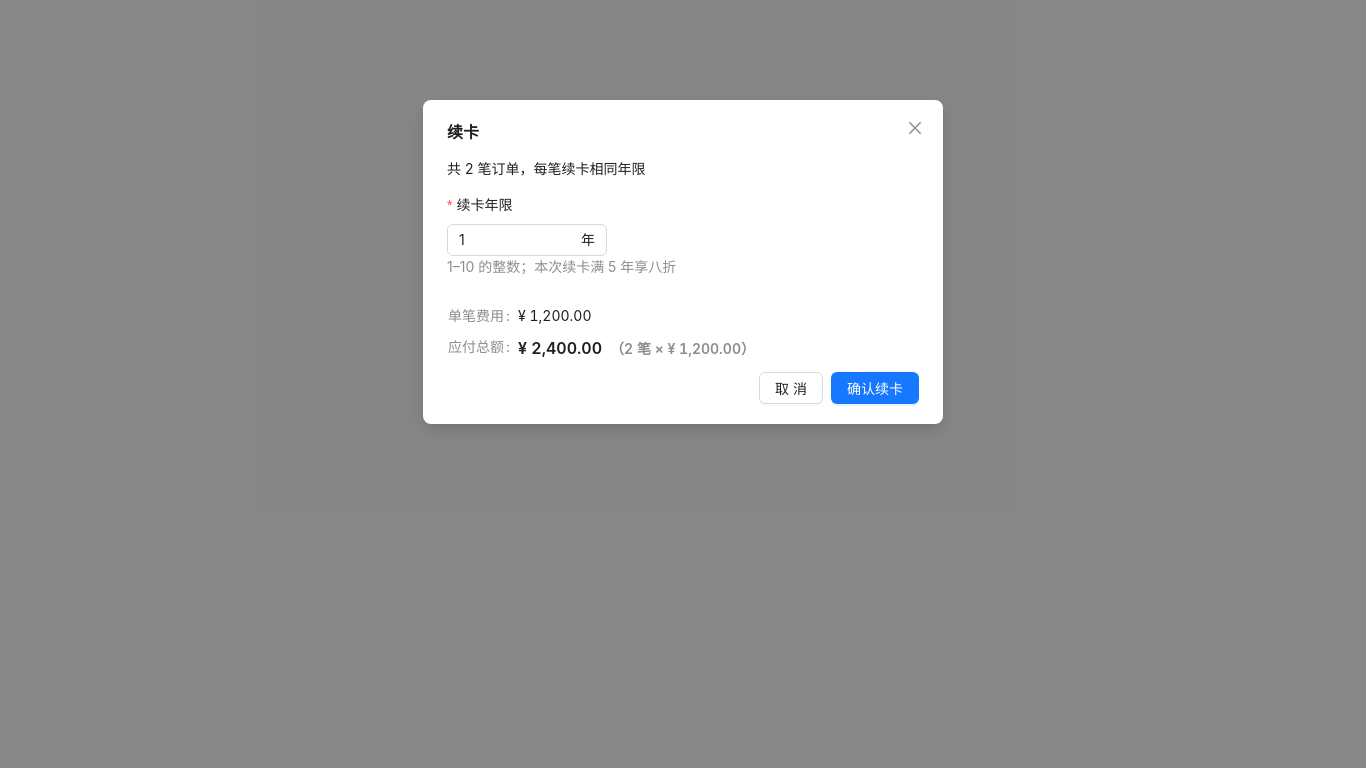
提交 › 店长已先为李秀英续卡：列出订单号与原因，弹窗与年限保留，王建国也不续
Replace the text in the number field labelled "续卡年限" with "3" at (518, 240), box [459,225,577,255]
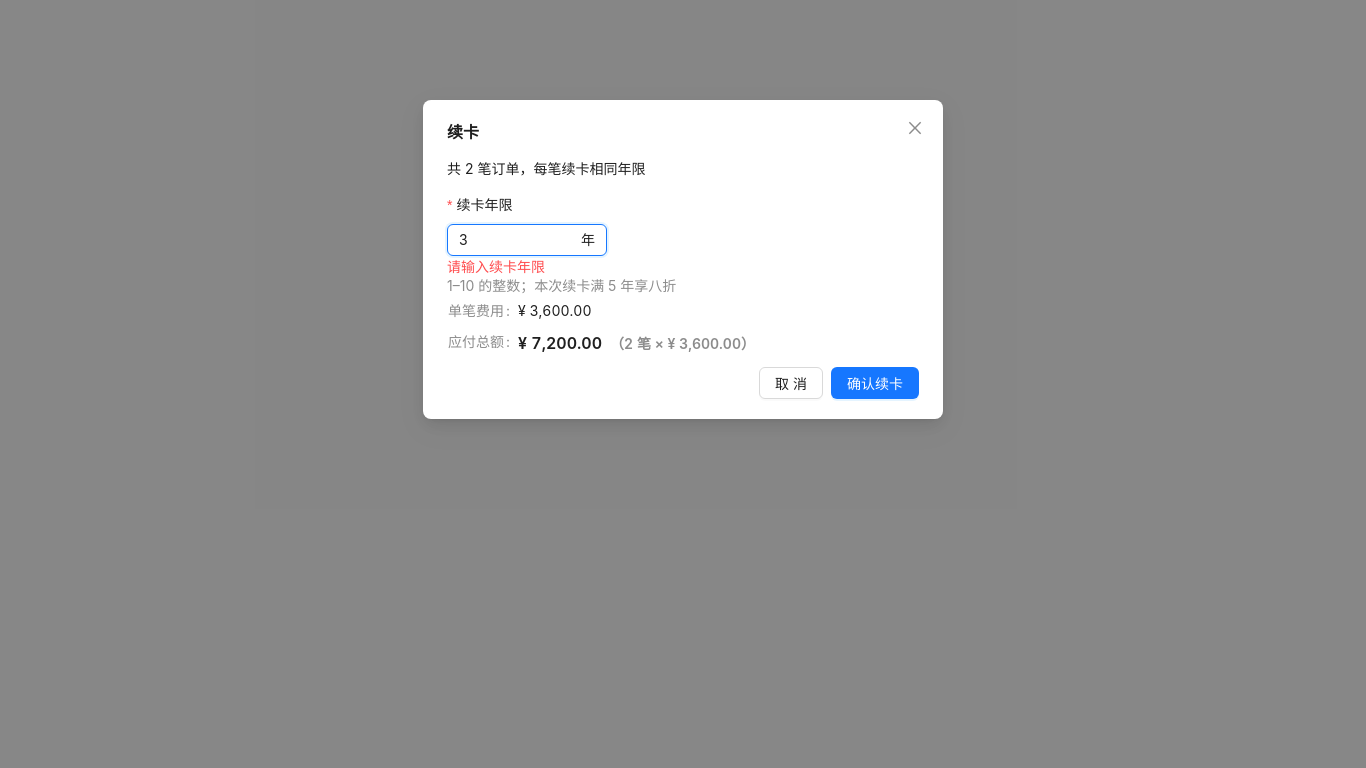
Click the button "确认续卡".
click(875, 383)  # box [831,367,919,399]
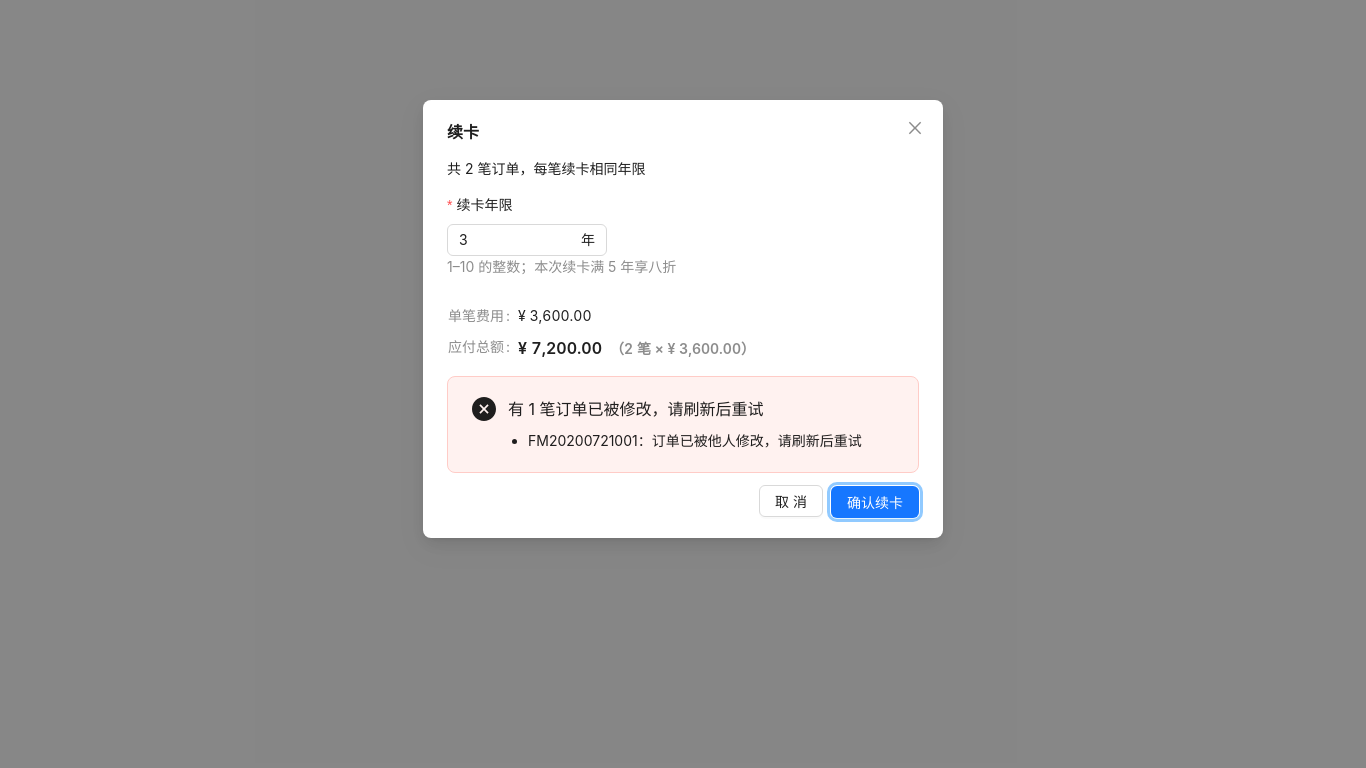
Result: the text "有 1 笔订单已被修改，请刷新后重试" is shown at [508,399,764,419]
